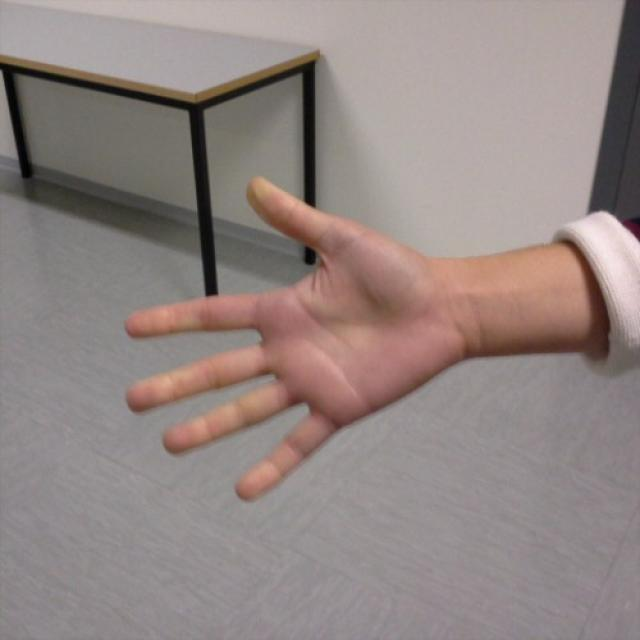paper: (124, 172, 450, 505)
